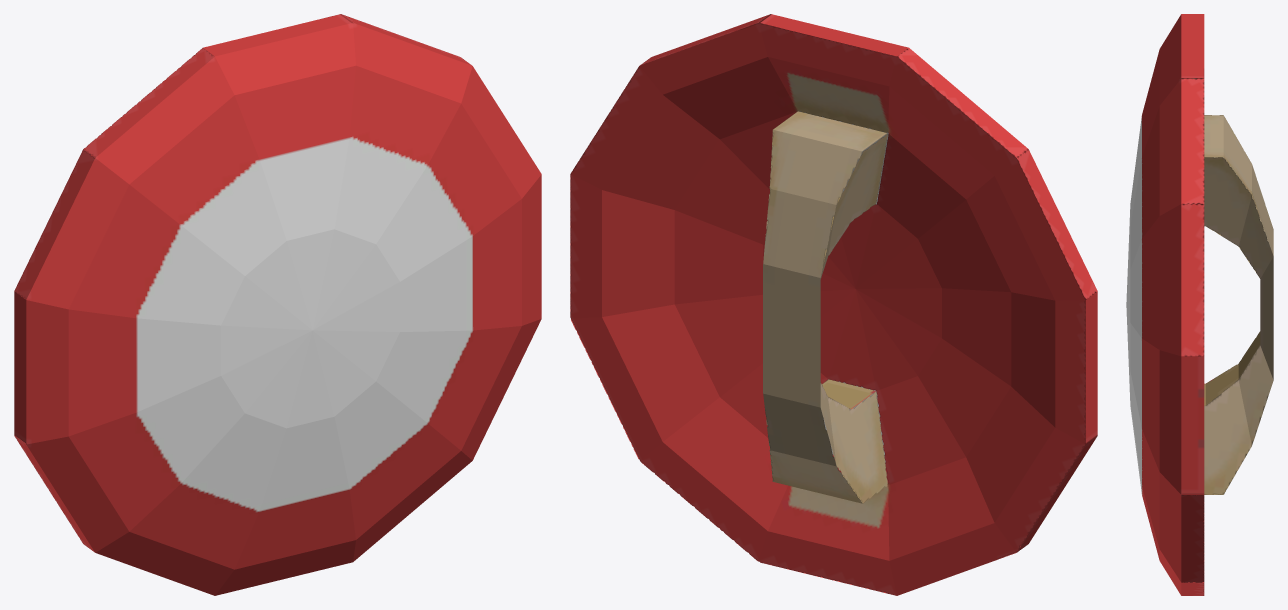
The model's file is FrisbeeShield_Red.fbx.
3 views of the same model, side by side, from view 1: azimuth 30°, elevation 25°; view 2: azimuth 150°, elevation 25°; view 3: azimuth 270°, elevation 25° (orthographic). The views are drawn at different scales.
Visible parts, largest first — view 1: Sphere; view 2: Sphere; view 3: Sphere.
Boxes of the visible parts, <box> form: Sphere: <box>14,14,541,595</box>; Sphere: <box>570,14,1097,595</box>; Sphere: <box>1126,14,1273,595</box>.
Bounding box in the file's own units: 71.34 × 71.34 × 18.4.
